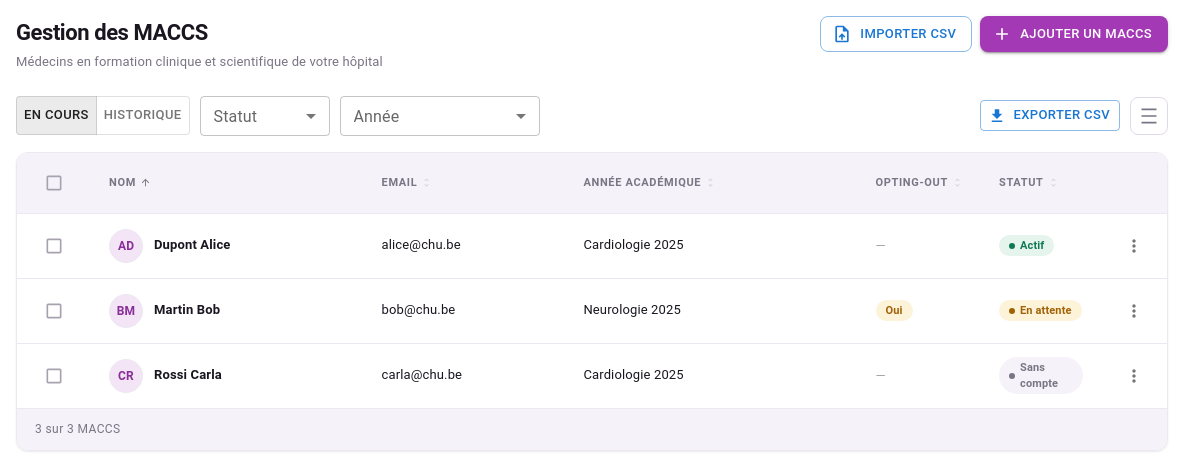
Test: HospitalAdminResidentsPage › 'select all' checkbox selects all visible rows
Expected: the text "Dupont Alice" is shown, x1=154 y1=236 x2=230 y2=255
Note: First checkbox is "select all"
Step 1. Click the checkbox next to "Nom" → {"x": 54, "y": 182}, box x1=44 y1=172 x2=64 y2=192
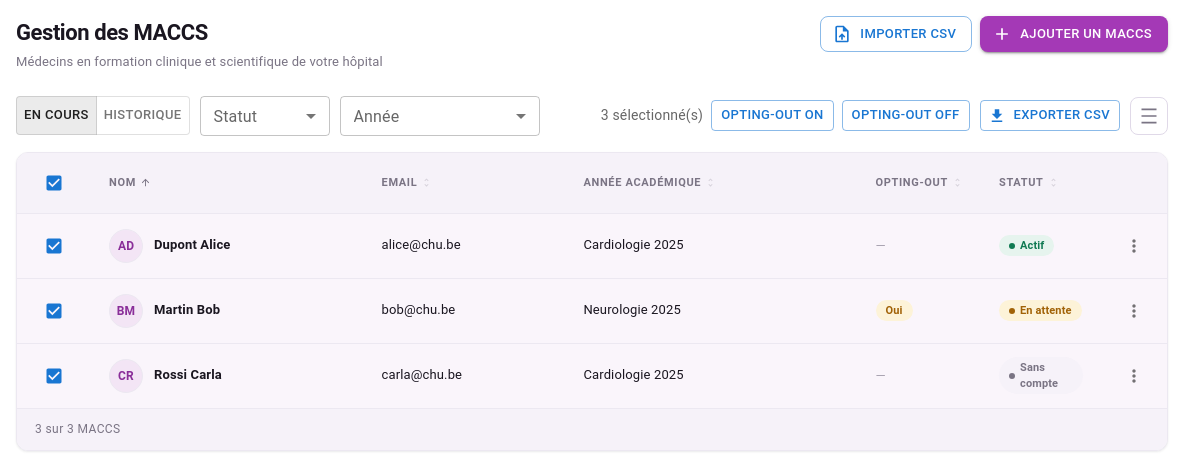
Result: the checkbox in the row of "Dupont" is checked at x1=44 y1=236 x2=64 y2=256
Result: the checkbox next to "BM" is checked at x1=44 y1=300 x2=64 y2=320
Result: the checkbox next to "CR" is checked at x1=44 y1=366 x2=64 y2=386
